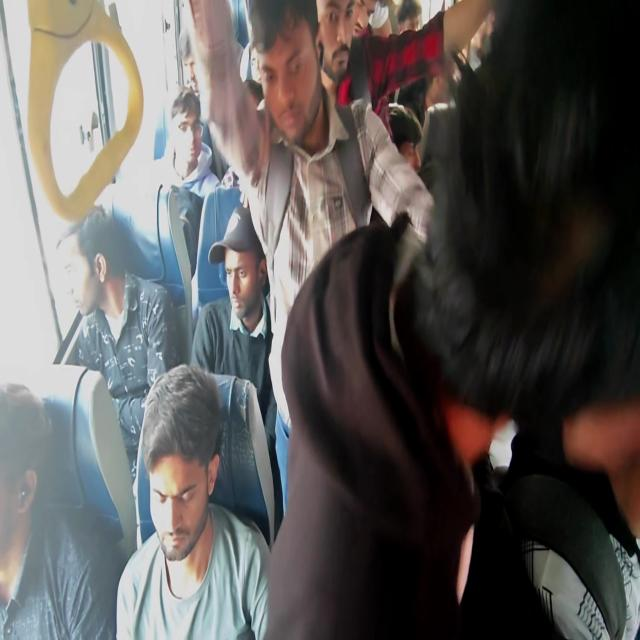person: (445, 73, 640, 585), (0, 417, 71, 640), (148, 418, 204, 610), (266, 27, 332, 167), (215, 238, 270, 344), (314, 8, 362, 94), (65, 230, 109, 308), (390, 3, 428, 64), (176, 41, 216, 98), (171, 98, 209, 156), (245, 66, 271, 132), (353, 0, 380, 49), (242, 42, 265, 79)
